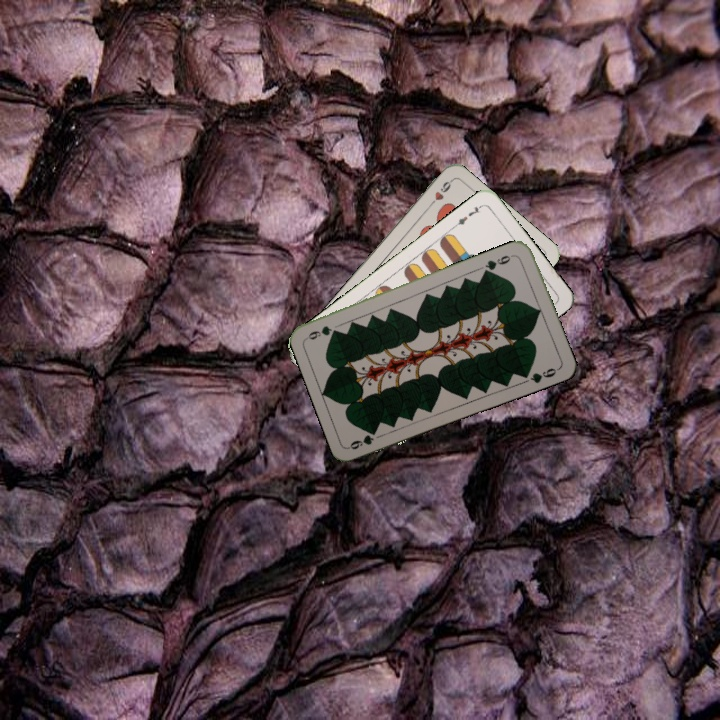E7: (450, 201, 485, 230)
G9: (480, 250, 518, 275), (346, 426, 380, 452)
H9: (425, 176, 455, 210)
